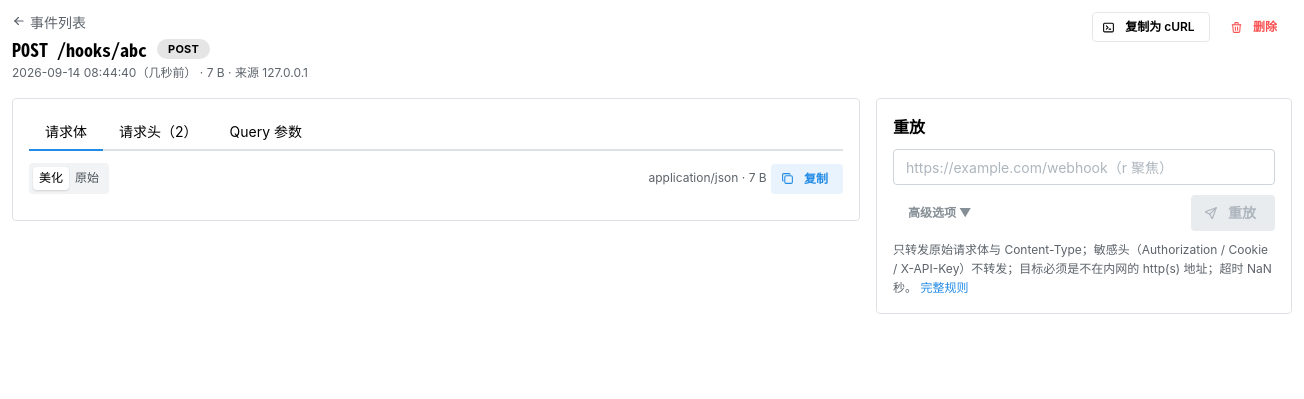
it: EventScreen sensitive headers › shows masked values by default and reveals them on request
Check: the heading "POST /hooks/abc" is shown, box [12, 36, 147, 62]
Click the tab "请求头（2）". click: (158, 133)
box: [103, 115, 214, 151]
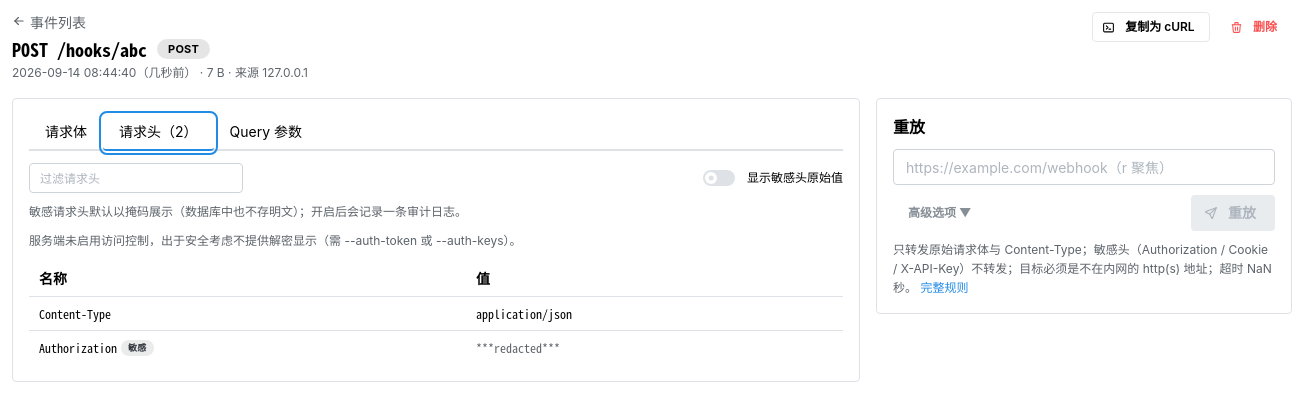
Check: the text "Bearer top-secret" is not shown
Check: the text "***redacted***" is shown, box [476, 339, 560, 356]
Click the switch. click: (773, 178)
box: [703, 170, 843, 186]
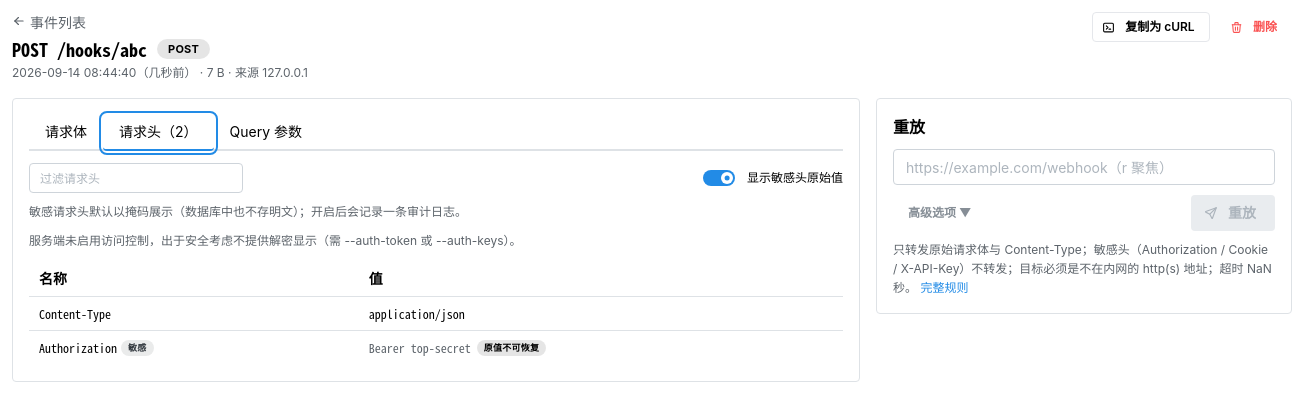
Check: the text "敏感请求头默认以掩码展示（数据库中也不存明文）；开启后会记录一条审计日志。" is shown, box [29, 204, 467, 219]
Check: the text "Bearer top-secret" is shown, box [369, 338, 471, 358]
